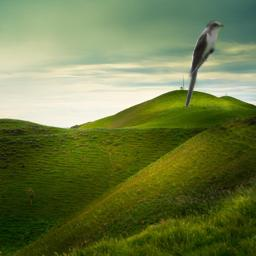Cuckoo: (184, 20, 224, 110)
